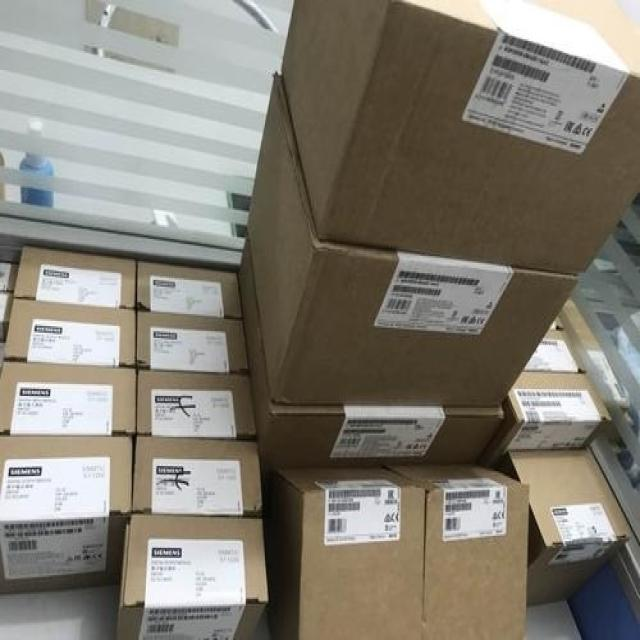box: (245, 70, 584, 404), (282, 0, 639, 278), (237, 244, 506, 472), (264, 466, 427, 637), (393, 462, 530, 637), (1, 432, 136, 594), (495, 447, 630, 606), (113, 510, 268, 638), (480, 368, 614, 466), (129, 434, 263, 518), (0, 359, 136, 435), (562, 301, 631, 444), (6, 296, 137, 366), (137, 366, 256, 435), (12, 246, 135, 307), (135, 307, 250, 372), (136, 259, 243, 316), (527, 328, 588, 371), (1, 286, 12, 343), (0, 261, 17, 291), (543, 315, 563, 336)
